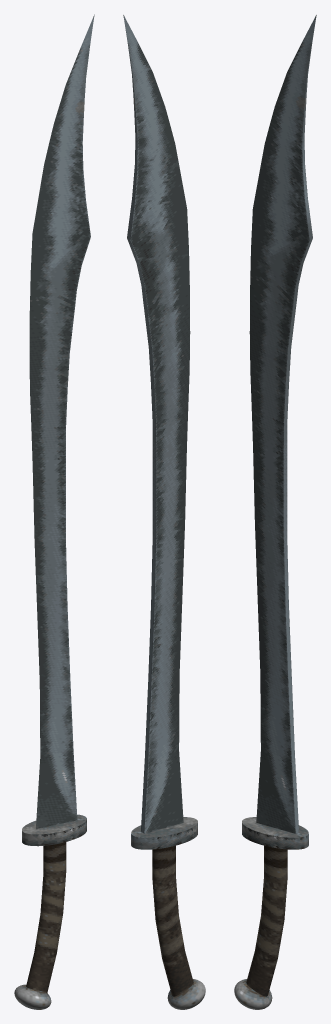
3 views of the same model, side by side, from view 1: azimuth 30°, elevation 25°; view 2: azimuth 210°, elevation 25°; view 3: azimuth 330°, elevation 25° (orthographic). The views are drawn at different scales.
Visible parts, largest first — view 1: Sphere.001; view 2: Sphere.001; view 3: Sphere.001.
Boxes of the visible parts, x1,y1,x2,y2 form: Sphere.001: (14, 14, 94, 1009); Sphere.001: (123, 15, 205, 1009); Sphere.001: (234, 15, 316, 1009).
Bounding box in the file's own units: 0.7943 × 9.59 × 0.3417.
1 material, 1 textured.
